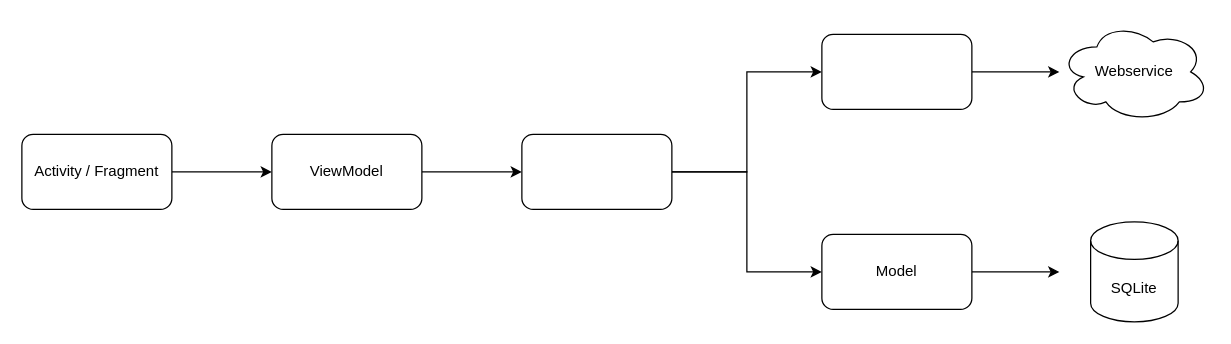
The diagram is 1231 pixels wide and 344 high, and some of its shapes have lost their labels. Here are the shapes that lost their labels. From the top down, the centre of each, then its label:
(896,71): Remote Data Source
(596,171): Repository
